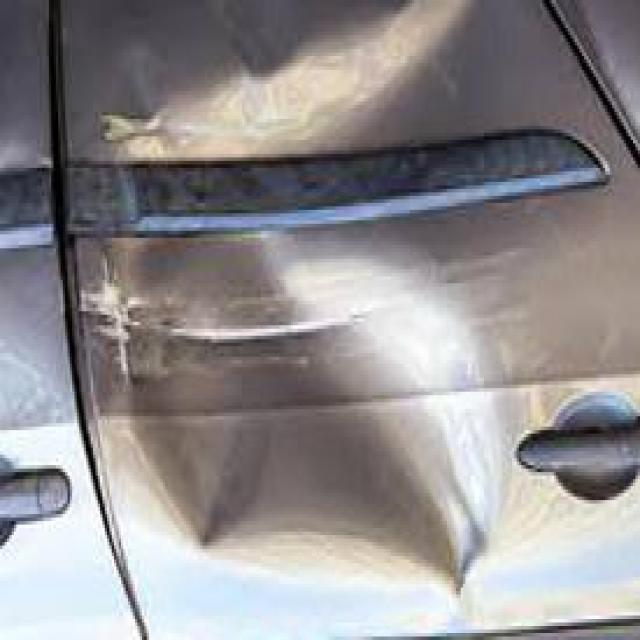dent: (116, 215, 517, 610)
